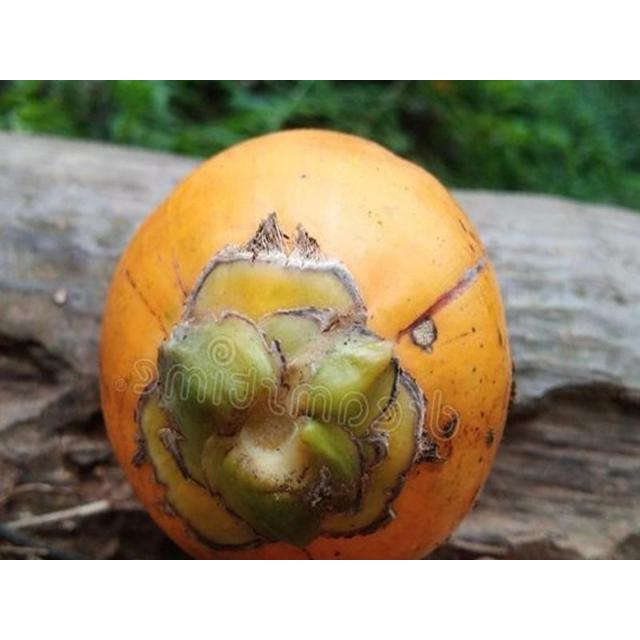good: (98, 129, 514, 559)
